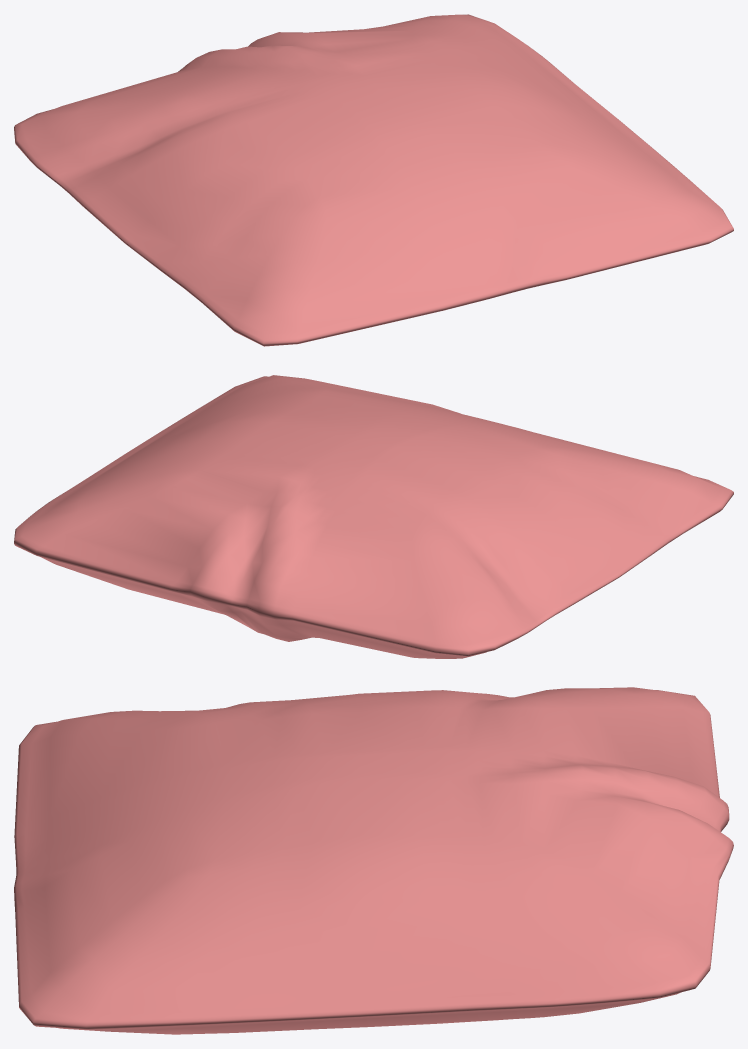
File: Pillow.fbx
The picture shows the model from 3 angles, top to bottom: view 1: azimuth 30°, elevation 25°; view 2: azimuth 150°, elevation 25°; view 3: azimuth 270°, elevation 25°; orthographic projection. The views are drawn at different scales.
Visible parts, largest first — view 1: Pillow; view 2: Pillow; view 3: Pillow.
Boxes of the visible parts, left/top/right/bottom form: Pillow: left=14, top=14, right=733, bottom=346; Pillow: left=14, top=375, right=733, bottom=658; Pillow: left=14, top=687, right=733, bottom=1034.
Bounding box in the file's own units: 59.08 × 16.78 × 57.89.
